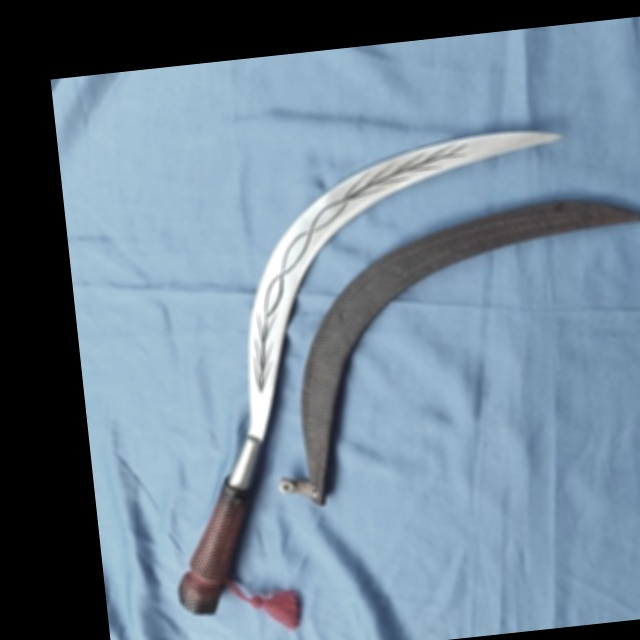Sharp-Object: (125, 120, 586, 623)
